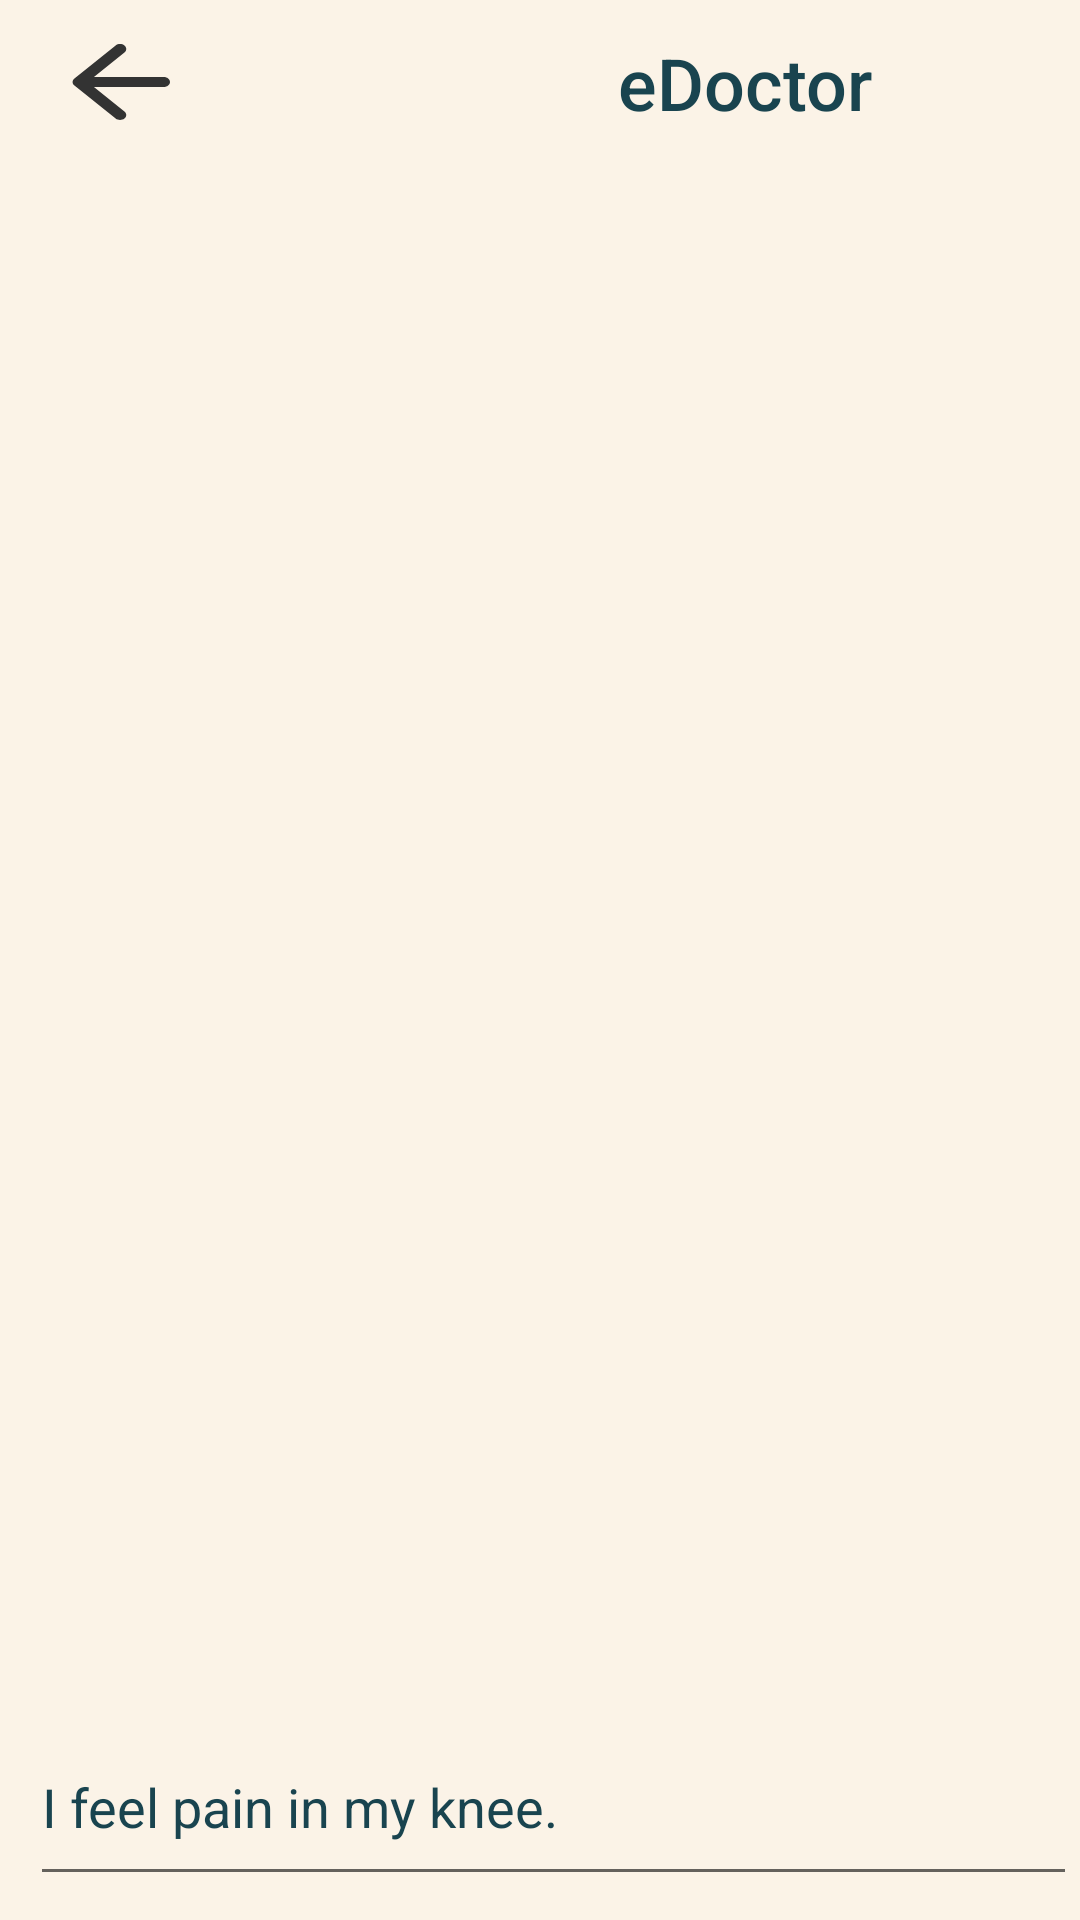

Icons on this 1080x1920 Android screen, each with the point to tap as (x=x, y=y):
back arrow: (x=121, y=82)
